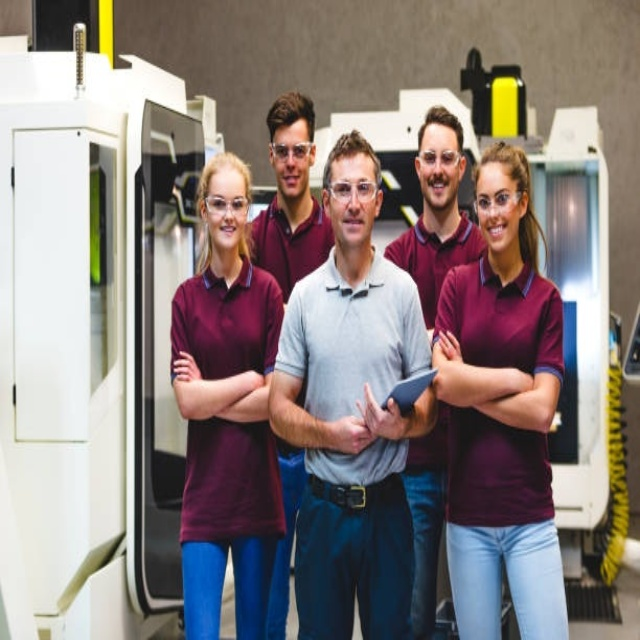Gafas: (327, 180, 380, 202), (475, 190, 523, 214), (418, 149, 463, 169), (204, 196, 249, 215), (271, 143, 314, 161)
Sin_guantes: (356, 380, 405, 445), (429, 328, 463, 370), (172, 349, 202, 385)
Sin_mascara: (337, 212, 368, 245), (426, 176, 449, 205), (484, 220, 509, 243), (220, 221, 239, 246), (280, 169, 300, 190)
